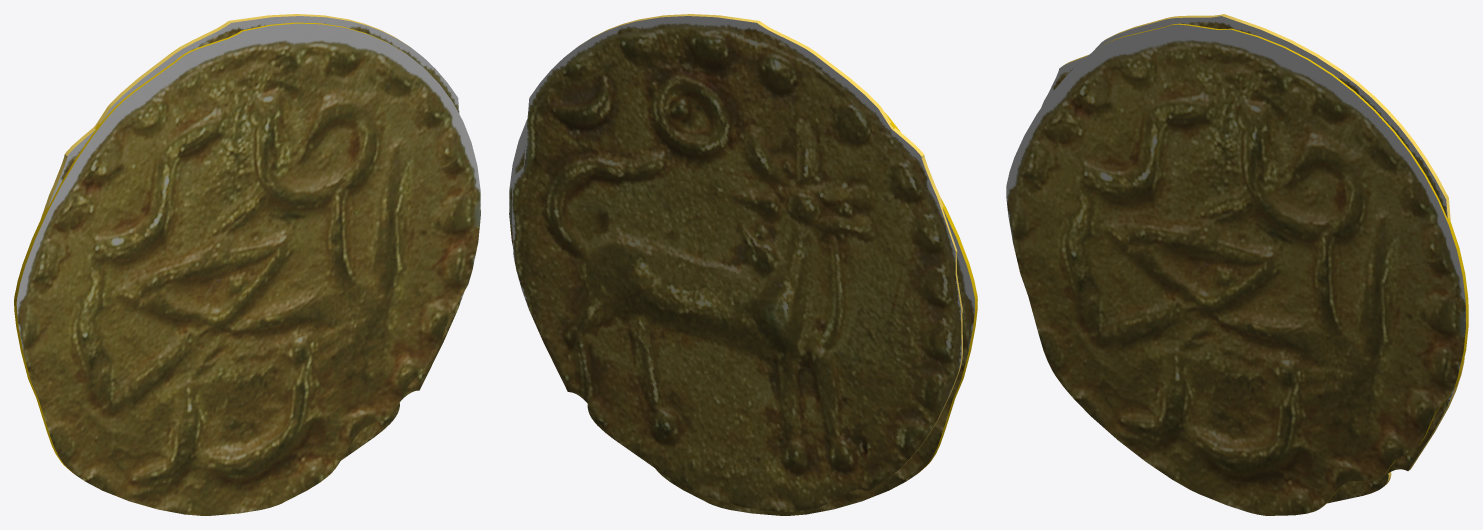
File: KijangCoins_A2.glb
The picture shows the model from 3 angles, left to right: view 1: azimuth 30°, elevation 25°; view 2: azimuth 150°, elevation 25°; view 3: azimuth 330°, elevation 25°; orthographic projection.
Parts seen in each view (by area): view 1: KijangCoins_B, KijangCoins_A; view 2: KijangCoins_A, KijangCoins_B; view 3: KijangCoins_B, KijangCoins_A.
Boxes of the visible parts, left/top/right/bottom form: KijangCoins_B: left=14, top=22, right=480, bottom=515; KijangCoins_A: left=41, top=14, right=464, bottom=460; KijangCoins_A: left=512, top=14, right=962, bottom=511; KijangCoins_B: left=509, top=113, right=977, bottom=515; KijangCoins_B: left=1006, top=23, right=1468, bottom=515; KijangCoins_A: left=1041, top=14, right=1464, bottom=503.
Size of the model in its own units: 0.4215 by 0.428 by 0.0064.
6 materials, 6 textured.
